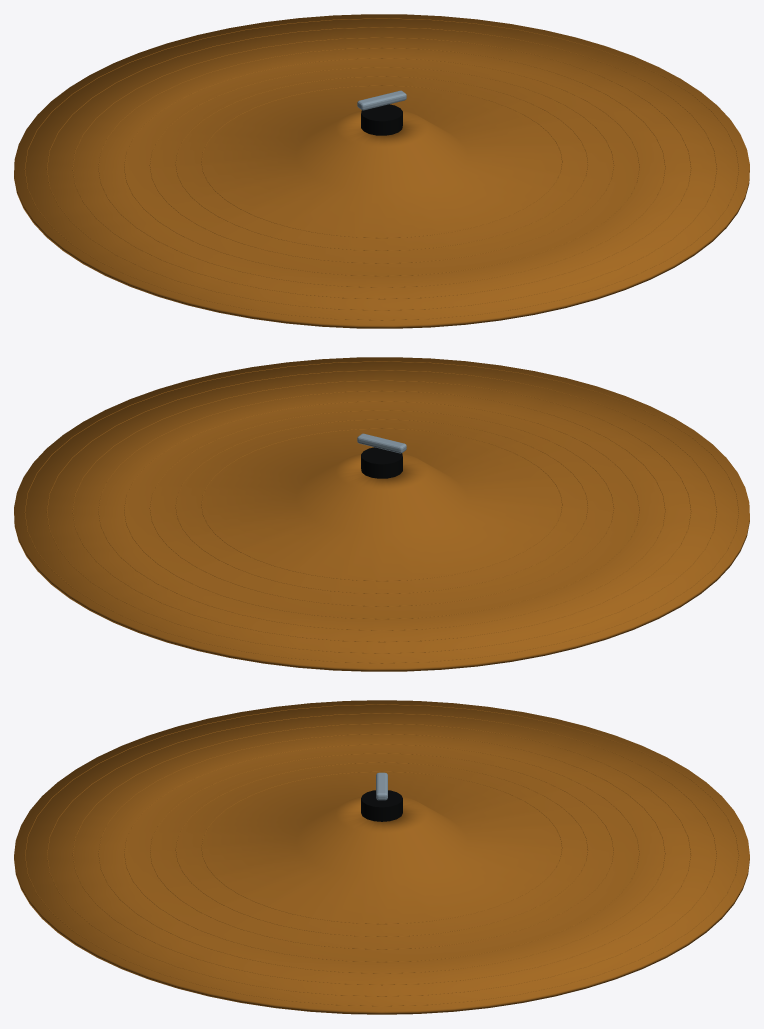
Rendered from Ride.obj.
3 renders of one model, top to bottom at view 1: azimuth 30°, elevation 25°; view 2: azimuth 150°, elevation 25°; view 3: azimuth 270°, elevation 25°, orthographic.
Parts seen in each view (by area): view 1: Ride.001; view 2: Ride.001; view 3: Ride.001.
Boxes of the visible parts, x1=… form: Ride.001: x1=14, y1=14, x2=749, y2=328; Ride.001: x1=14, y1=357, x2=749, y2=671; Ride.001: x1=14, y1=700, x2=749, y2=1014.
Size of the model in its own units: 0.56 by 0.064 by 0.56.
